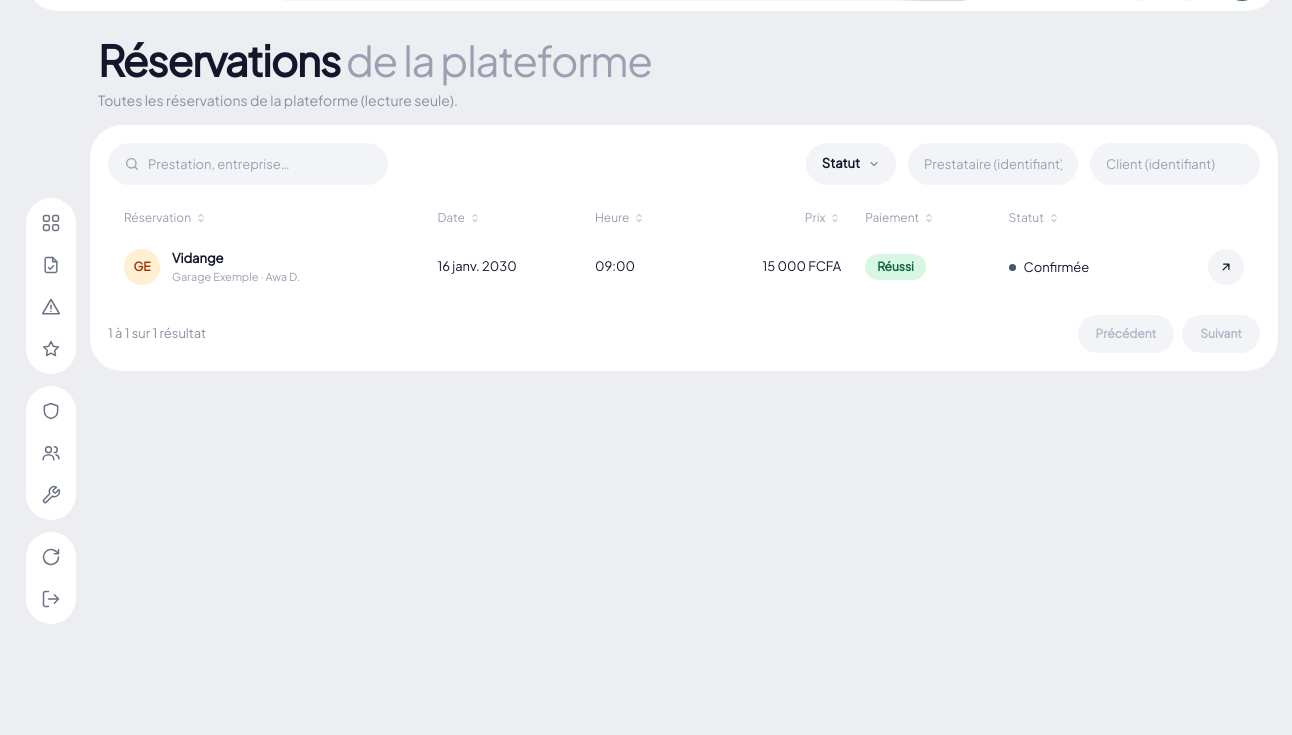
Test: écrans de consultation › réservations : client en prénom + initiale, jamais de code, filtres dans l’adresse
Expected: the text "Garage Exemple · Awa D." is shown, [172,268,300,285]
Click the button with aria-label "Filtrer par statut" at [851, 164], box [806,143,896,185]
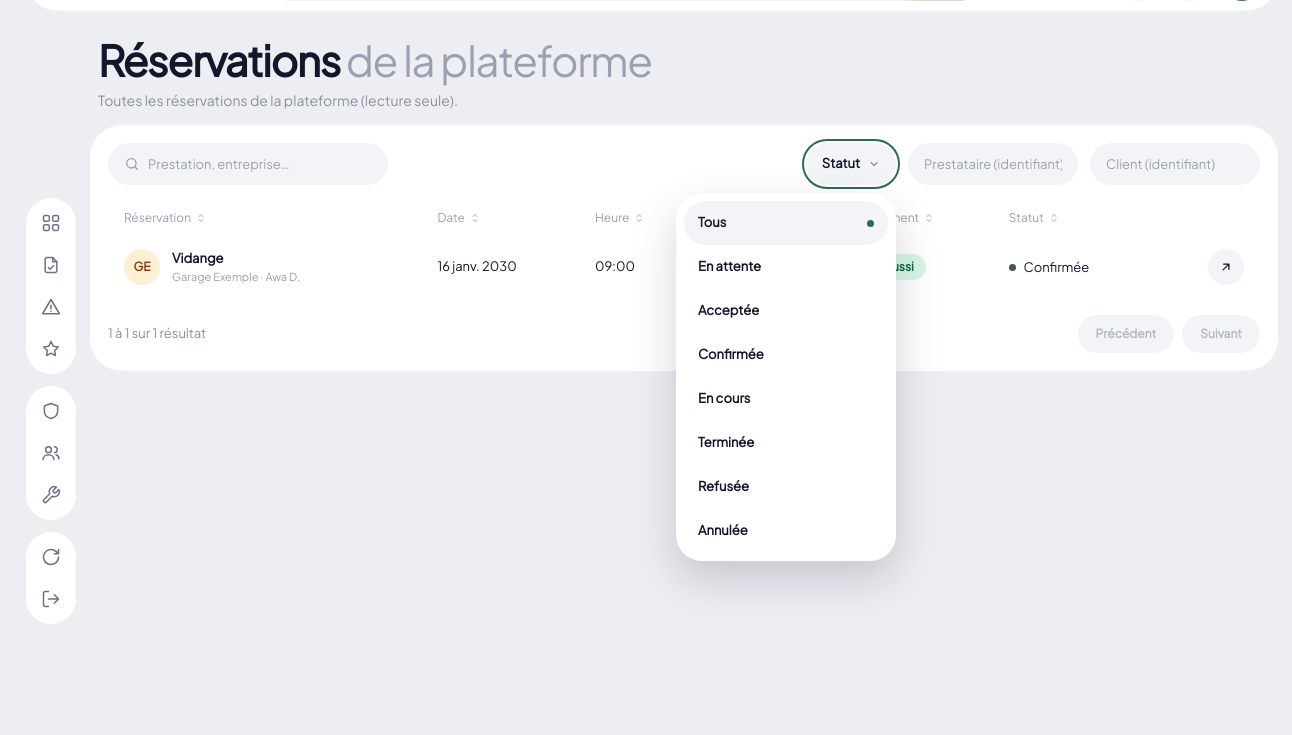
Click the menu item "Terminée" at [786, 443], box [684,421,888,465]
(page scrolled)
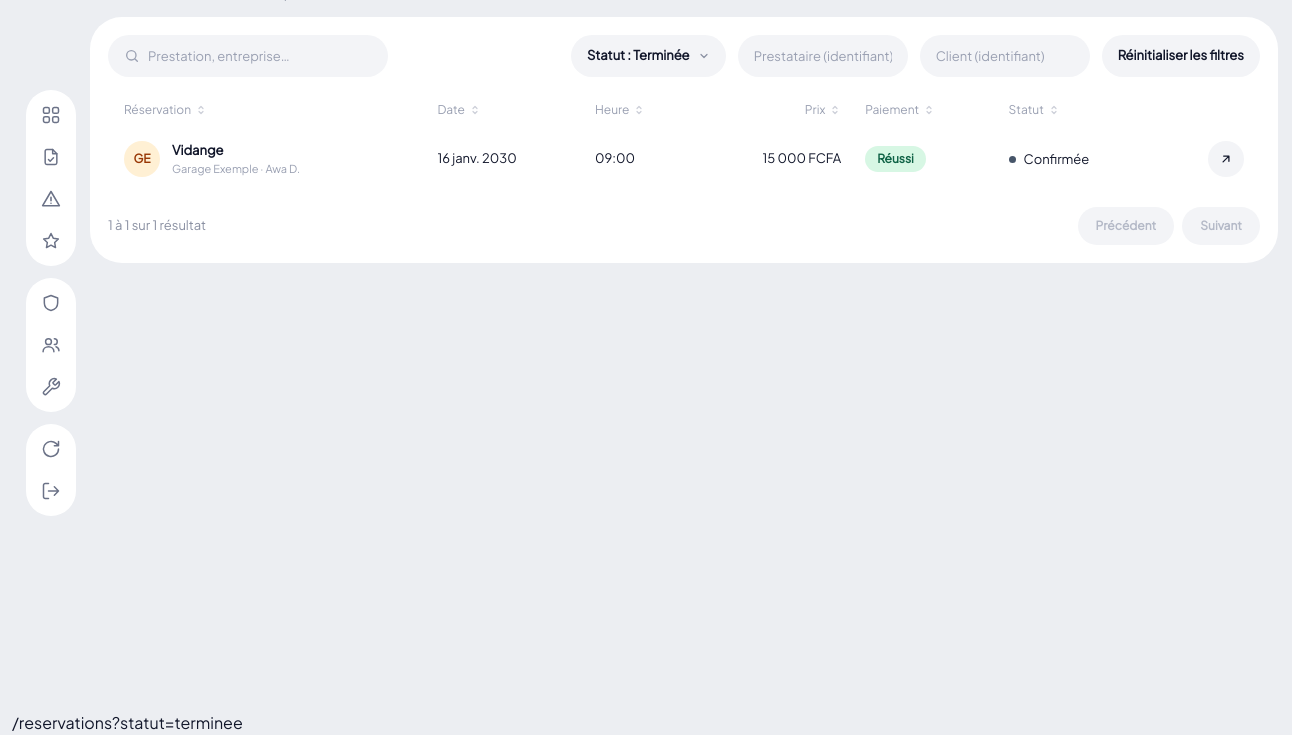
Expected: the text with test id "lieu" reads "/reservations?statut=terminee", [12,712,243,733]
